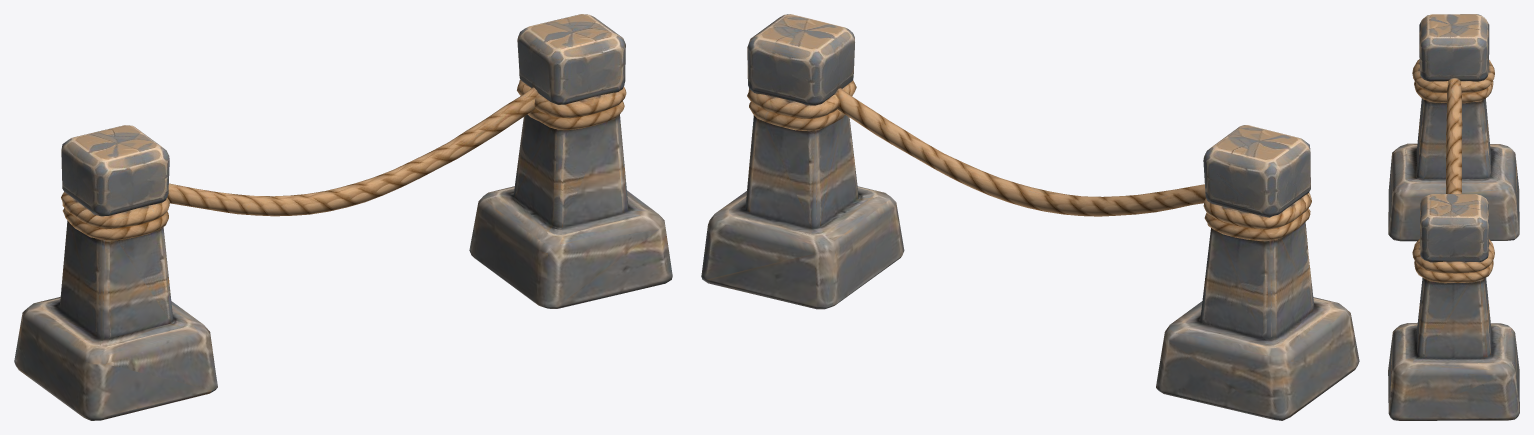
The model's file is Cerca_Corda.glb.
The picture shows the model from 3 angles, left to right: view 1: azimuth 30°, elevation 25°; view 2: azimuth 150°, elevation 25°; view 3: azimuth 270°, elevation 25°; orthographic projection. The views are drawn at different scales.
Size of the model in its own units: 1 by 0.3906 by 0.2412.
Materials: 1 (1 with a texture image).
